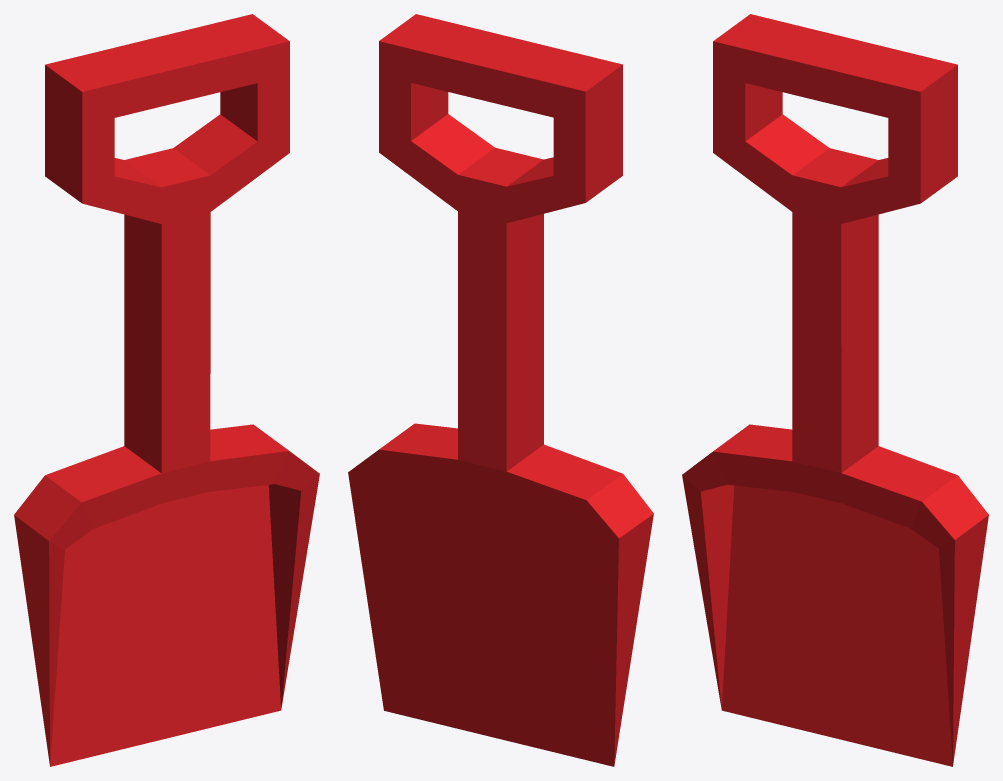
The model's file is Shovel.fbx.
The picture shows the model from 3 angles, left to right: view 1: azimuth 30°, elevation 25°; view 2: azimuth 150°, elevation 25°; view 3: azimuth 330°, elevation 25°; orthographic projection.
Parts seen in each view (by area): view 1: Shovel; view 2: Shovel; view 3: Shovel.
Part boxes in pixels (x1,y1,x2,y2): Shovel: [14, 14, 319, 766]; Shovel: [348, 14, 653, 766]; Shovel: [682, 14, 988, 766].
Size of the model in its own units: 0.2419 by 0.5842 by 0.0575.
